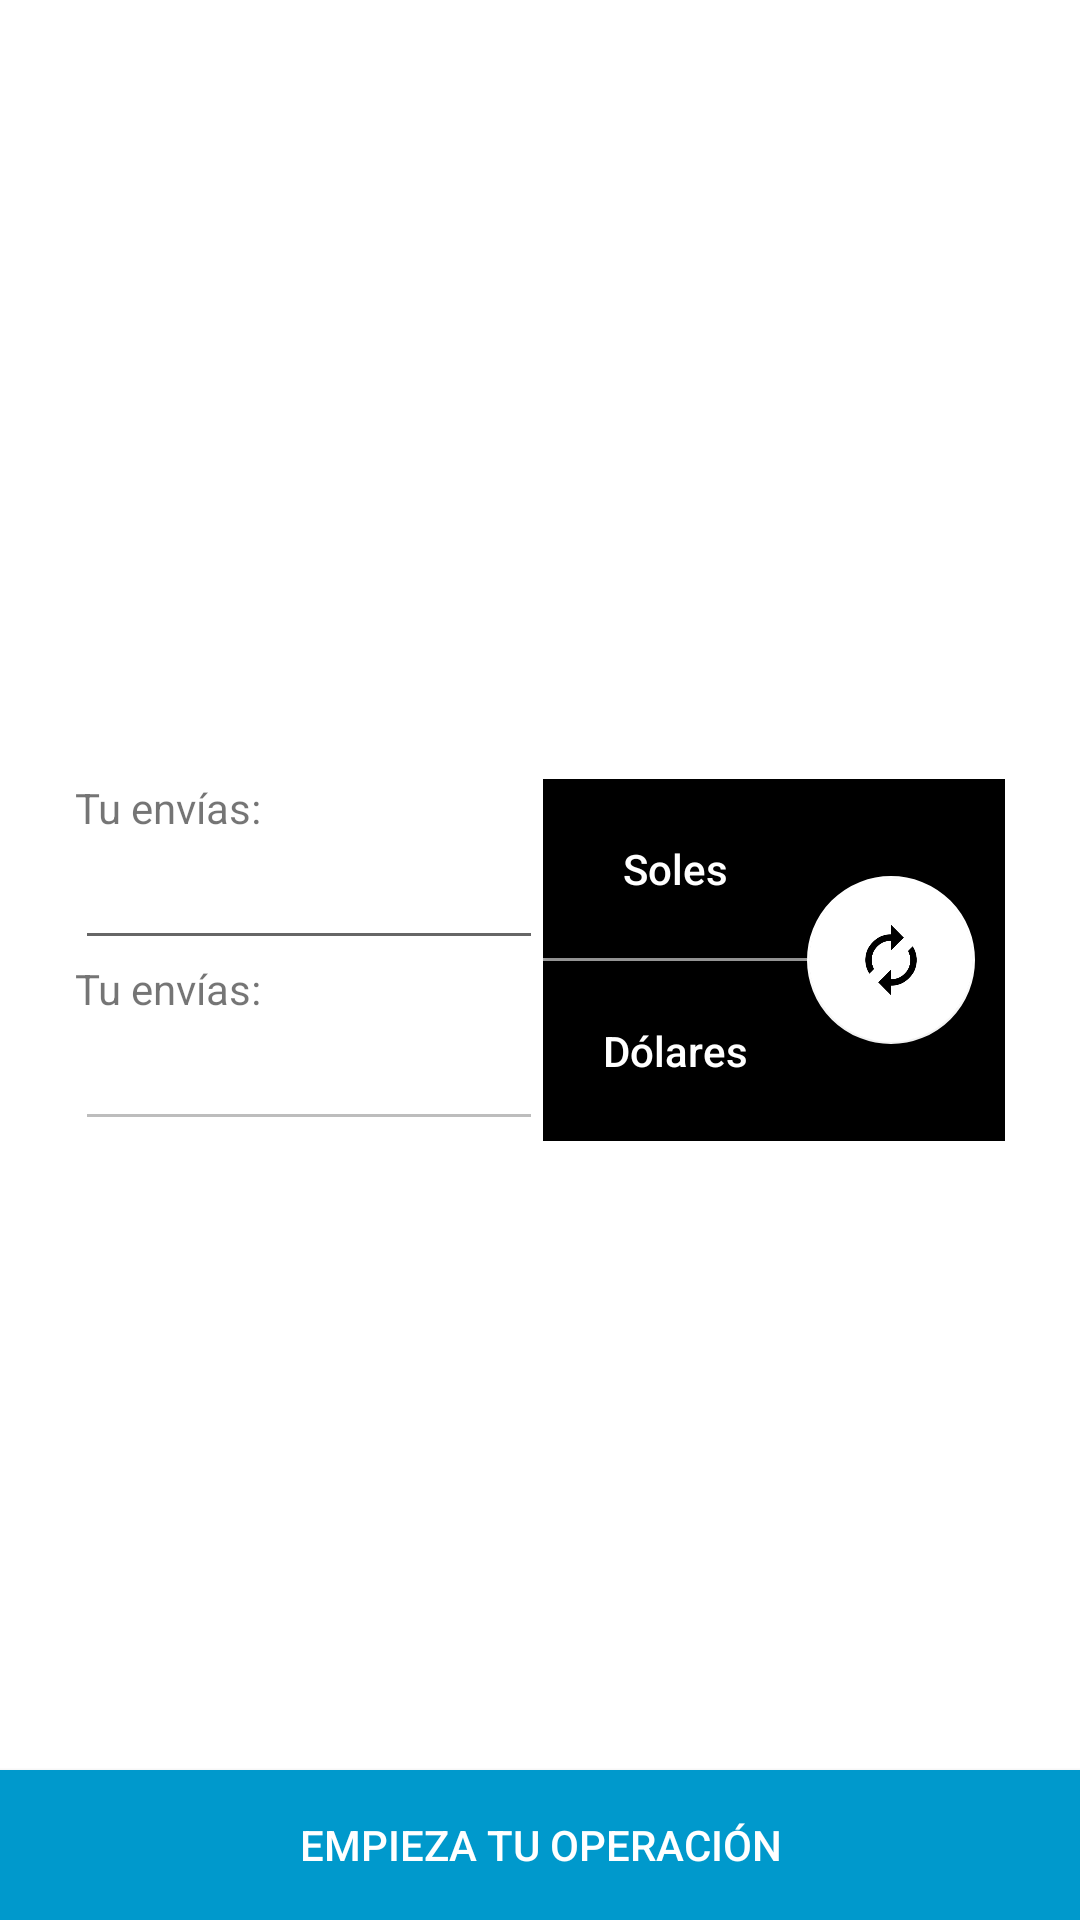

Icons on this 1080px×1920px Android screen, each with the point to tap as point (x, y):
change: point (891, 960)
